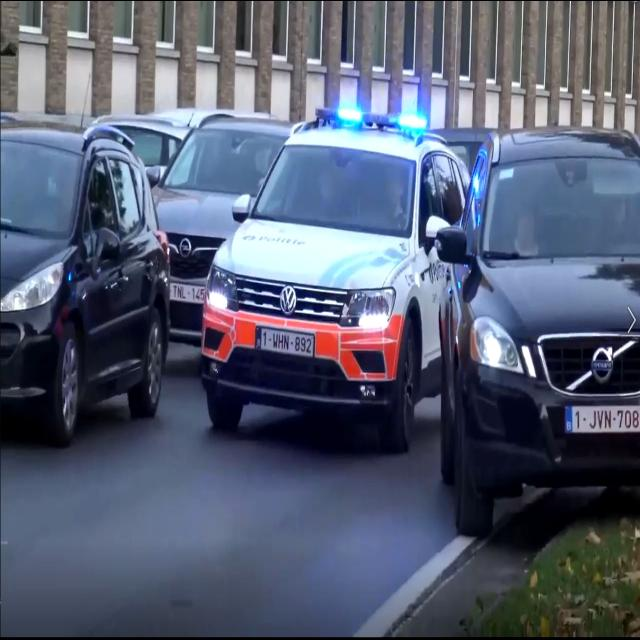emergency: (199, 105, 475, 483)
